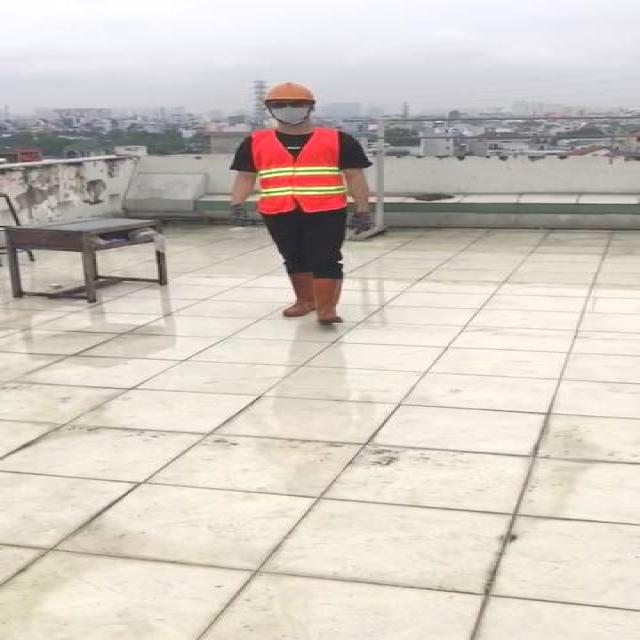boots: (283, 275, 311, 319), (314, 278, 340, 324)
face_mask: (267, 98, 311, 124)
glasses: (267, 99, 311, 110)
hand_glove: (347, 210, 375, 235), (233, 202, 252, 230)
head_helmet: (263, 82, 318, 104)
person: (220, 80, 380, 332)
vest: (256, 127, 343, 213)
